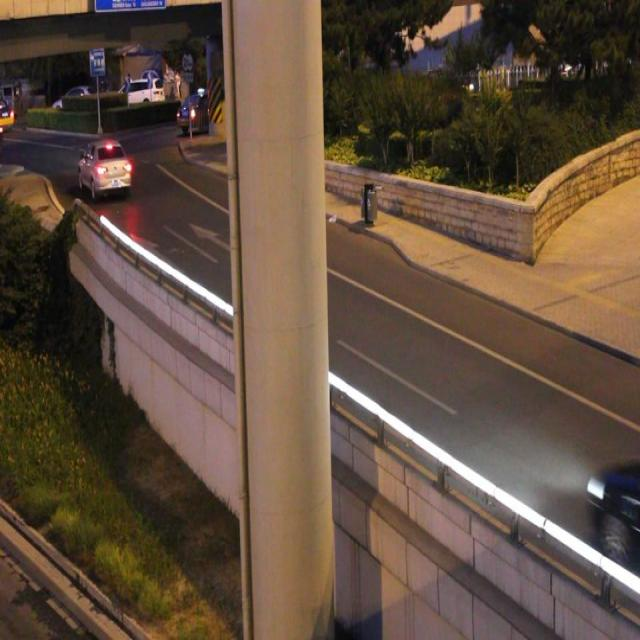car: (590, 462, 640, 564), (79, 142, 131, 192)
